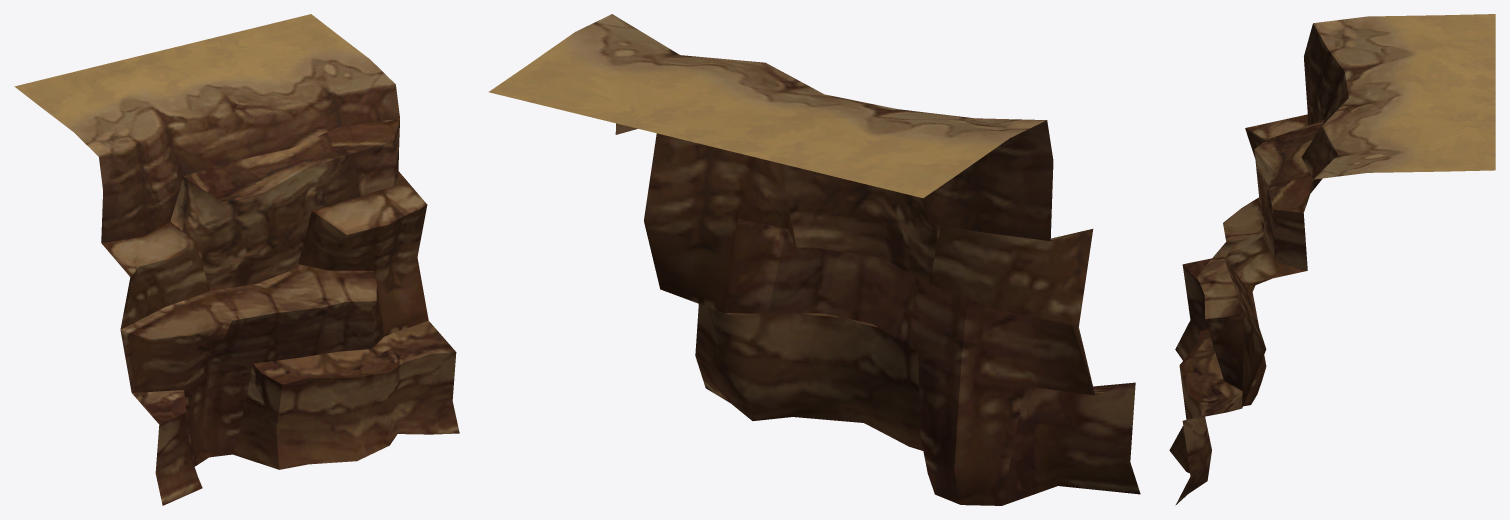
Rendered from nashgar_trim_base4_rock01_01.FBX.
3 views of the same model, side by side, from view 1: azimuth 30°, elevation 25°; view 2: azimuth 150°, elevation 25°; view 3: azimuth 270°, elevation 25° (orthographic). The views are drawn at different scales.
Visible parts, largest first — view 1: nashgar_trim_base4_rock01_01; view 2: nashgar_trim_base4_rock01_01; view 3: nashgar_trim_base4_rock01_01.
Part boxes in pixels (left/top/right/bottom): nashgar_trim_base4_rock01_01: left=14, top=14, right=459, bottom=505; nashgar_trim_base4_rock01_01: left=488, top=14, right=1140, bottom=505; nashgar_trim_base4_rock01_01: left=1169, top=14, right=1495, bottom=505.
Bounding box in the file's own units: 4 × 4.09 × 3.53.
